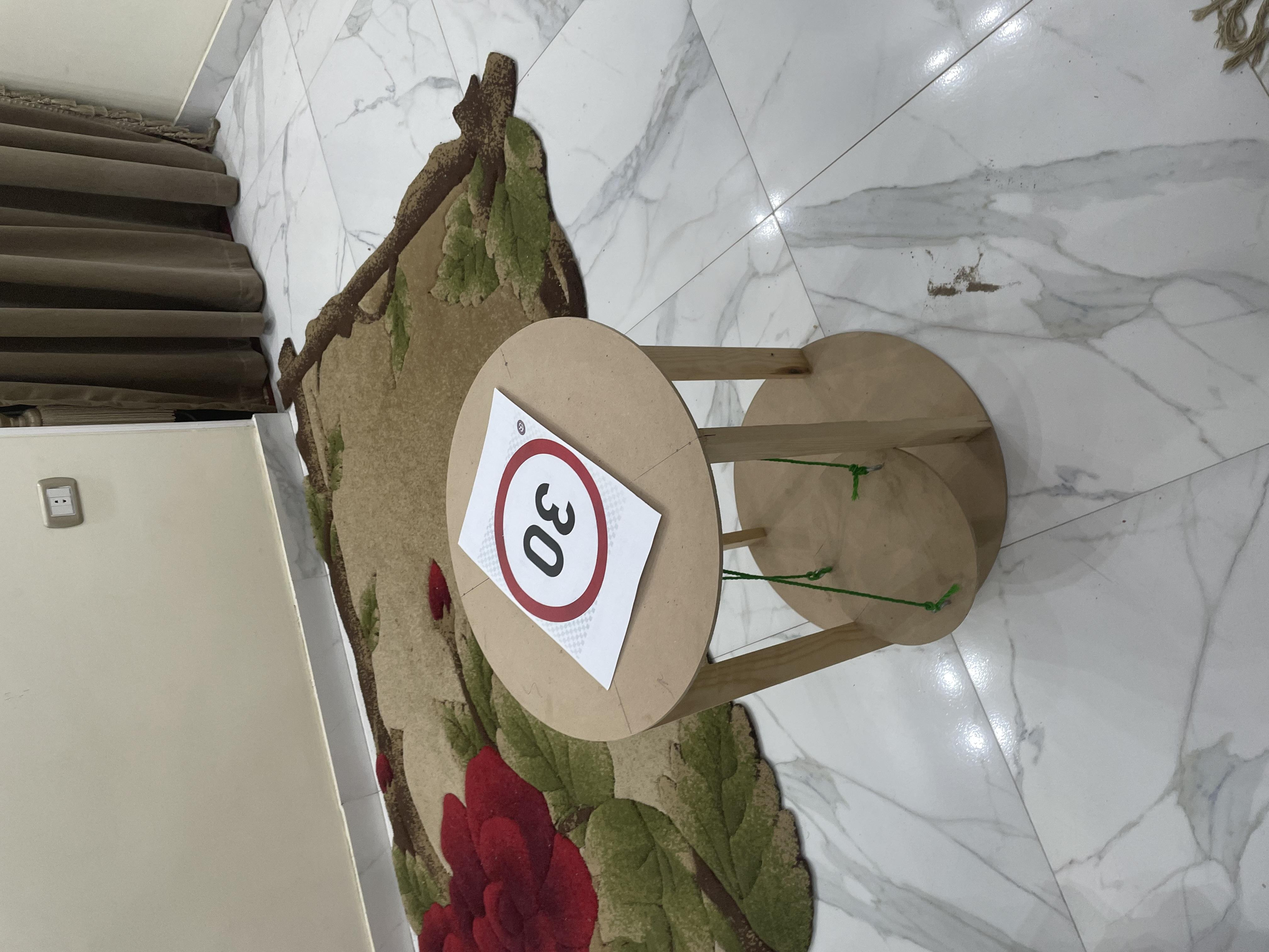30-speed: (432, 364, 697, 462)
